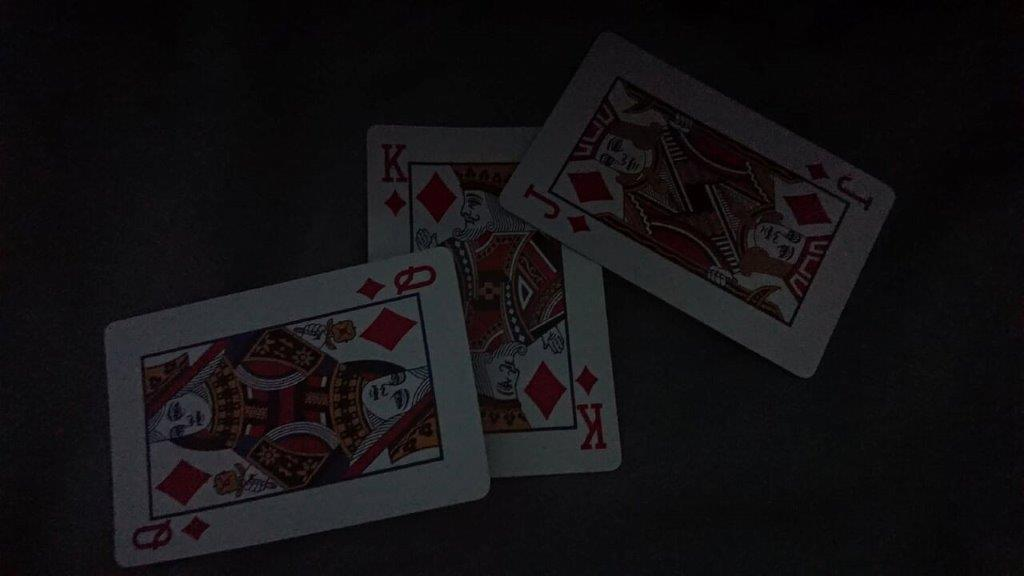JD: (514, 173, 603, 244)
KD: (373, 131, 423, 220)
